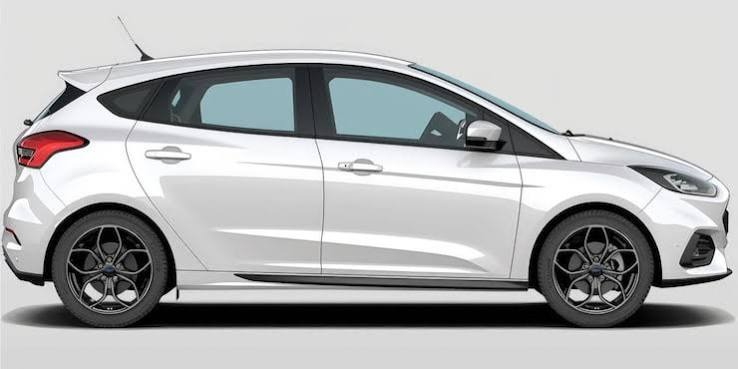car: (7, 45, 736, 321)
